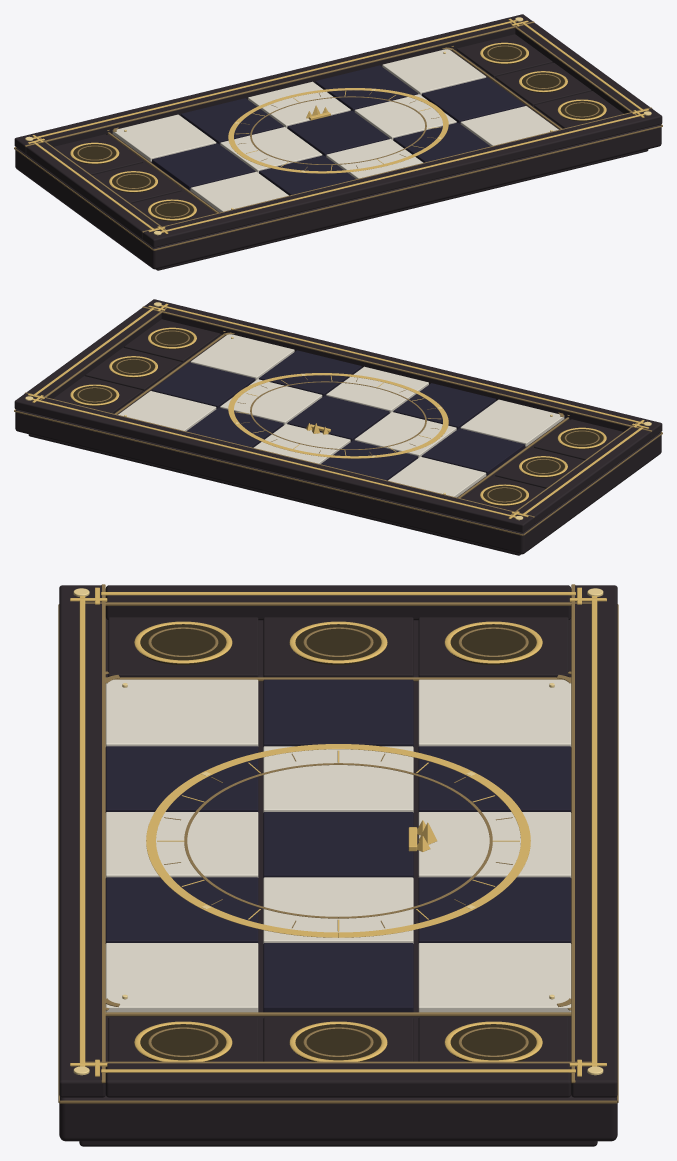
The model's file is BoardModel.fbx.
3 views of the same model, one above another, from view 1: azimuth 30°, elevation 25°; view 2: azimuth 150°, elevation 25°; view 3: azimuth 270°, elevation 25° (orthographic). The views are drawn at different scales.
Parts seen in each view (by area): view 1: Board, Grid, Emblem; view 2: Board, Grid, Emblem; view 3: Board, Grid, Emblem.
Boxes of the visible parts, x1,y1,x2,y2 form: Board: (14, 14, 662, 270); Grid: (112, 49, 558, 212); Emblem: (107, 46, 552, 209); Board: (14, 299, 662, 555); Grid: (118, 334, 564, 497); Emblem: (124, 331, 569, 494); Board: (58, 584, 618, 1146); Grid: (105, 679, 571, 1012); Emblem: (105, 671, 571, 1010).
Bounding box in the file's own units: 3.8 × 0.3038 × 1.8.
